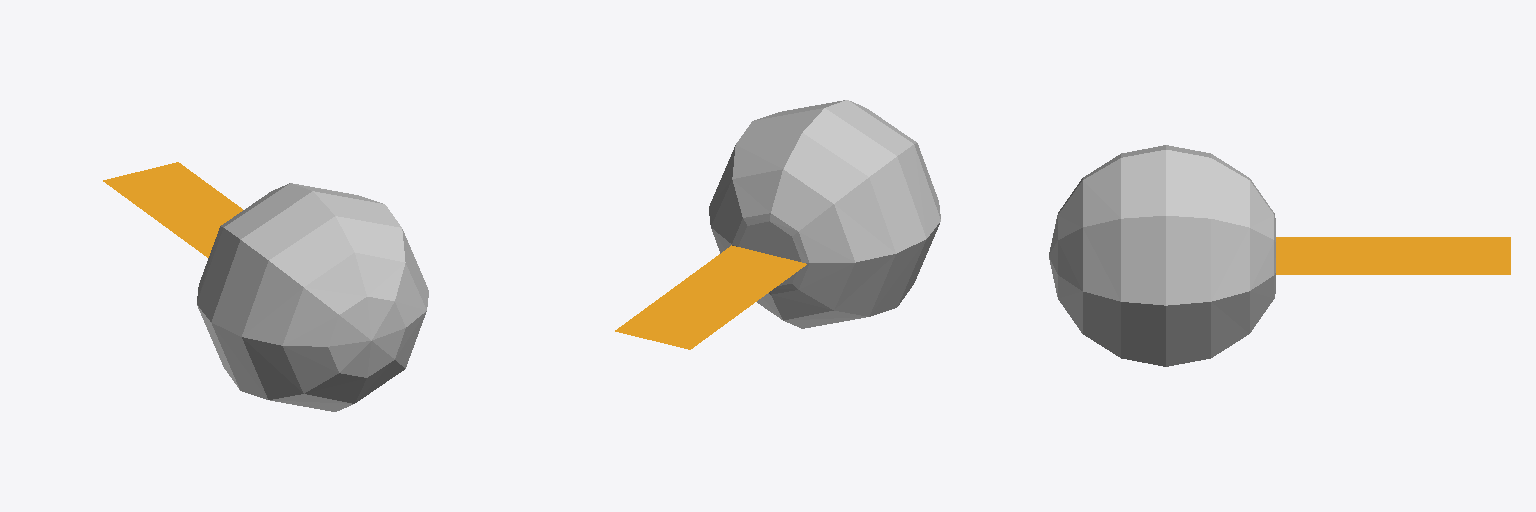
File: tree_short_night.obj
The picture shows the model from 3 angles: view 1: azimuth 30°, elevation 25°; view 2: azimuth 150°, elevation 25°; view 3: azimuth 270°, elevation 25°; orthographic projection.
Parts seen in each view (by area): view 1: tree_short; view 2: tree_short; view 3: tree_short.
Boxes of the visible parts, box(x1,y1,x2,y2) form: tree_short: box(103, 162, 428, 411); tree_short: box(615, 100, 940, 349); tree_short: box(1049, 145, 1510, 366).
Size of the model in its own units: 32 by 32 by 63.